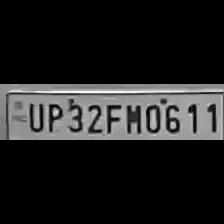0: (142, 100, 162, 134)
1: (200, 101, 220, 133), (183, 100, 200, 134)
2: (85, 101, 103, 133)
3: (64, 100, 82, 132)
6: (162, 100, 182, 134)
F: (104, 100, 122, 134)
M: (123, 102, 143, 134)
P: (44, 100, 62, 132)
U: (24, 100, 43, 132)
